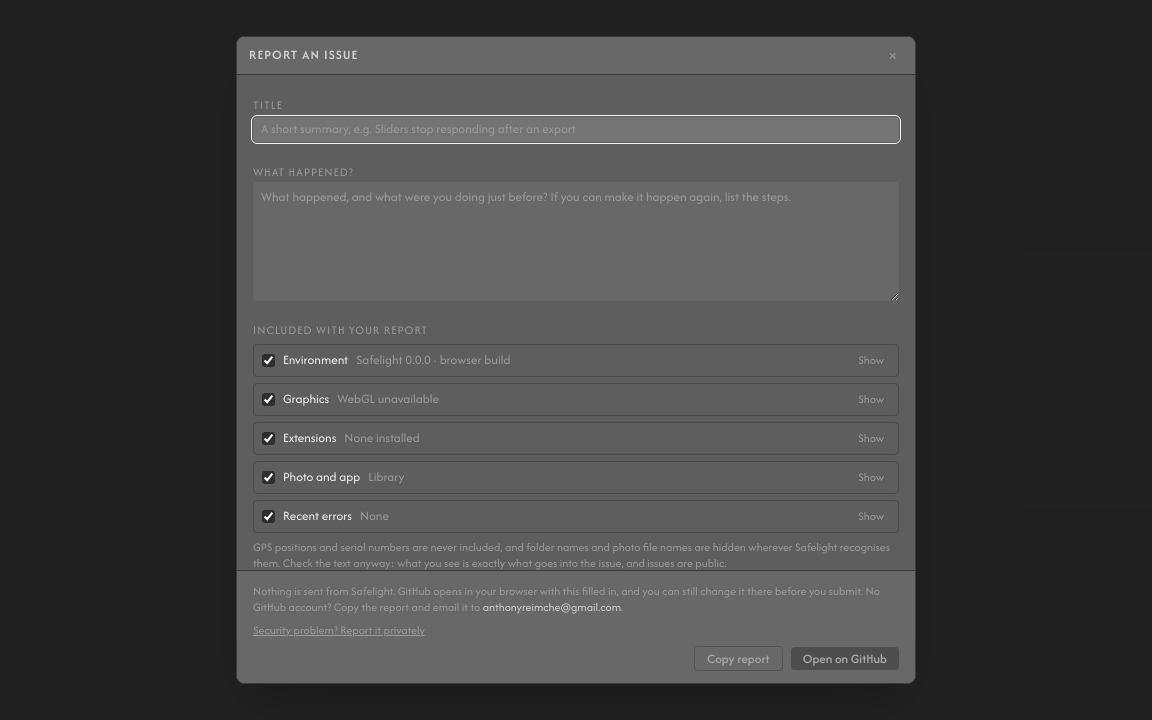
Test: ReportIssueDialog › copies the full report
Expected: the checkbox named "Include Environment" is shown, x1=262 y1=354 x2=275 y2=367
Type "Sliders freeze" into the field labelled "Title".
click(576, 129); type("Sliders freeze")  # box x1=253 y1=117 x2=899 y2=142
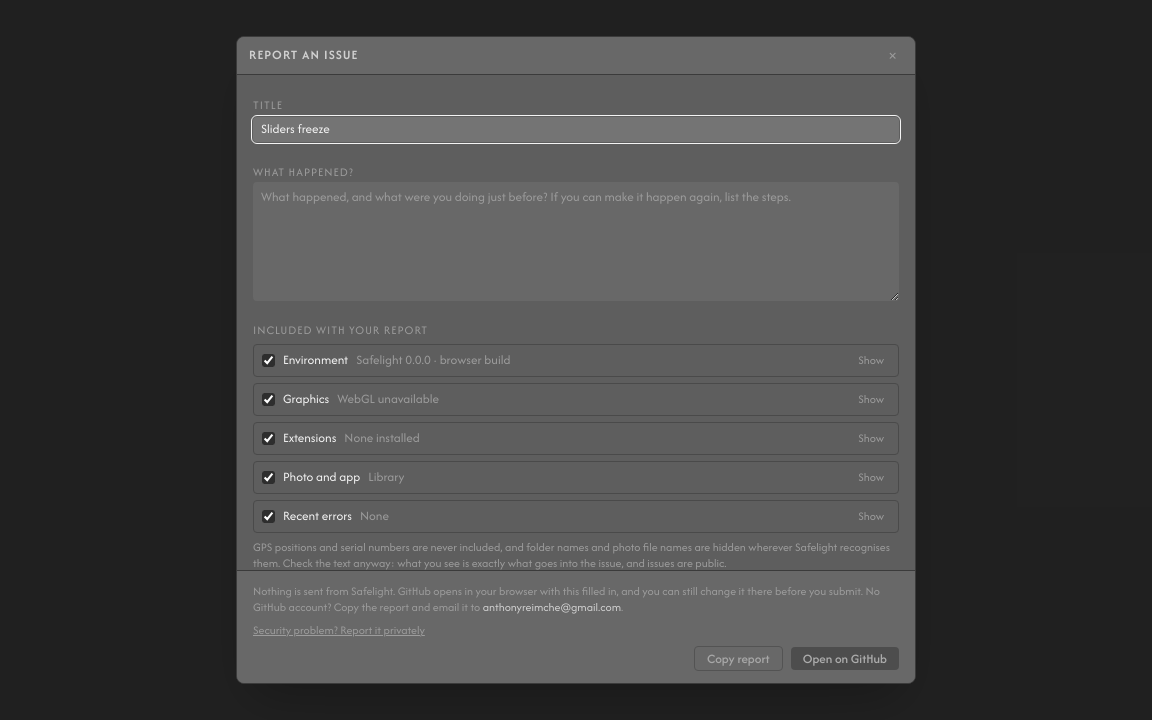
Type "They stop moving." into the text box labelled "What happened?".
click(576, 241); type("They stop moving.")  # box x1=253 y1=182 x2=899 y2=301
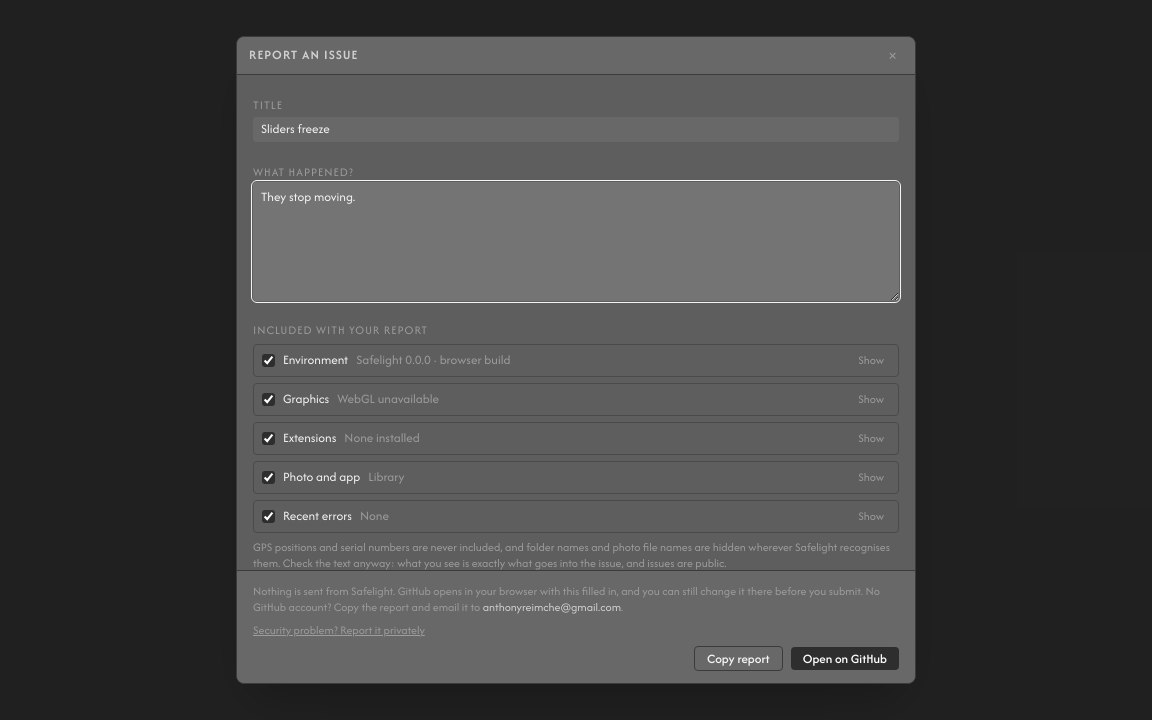
Click the button "Copy report".
click(738, 658)  # box x1=694 y1=646 x2=783 y2=671
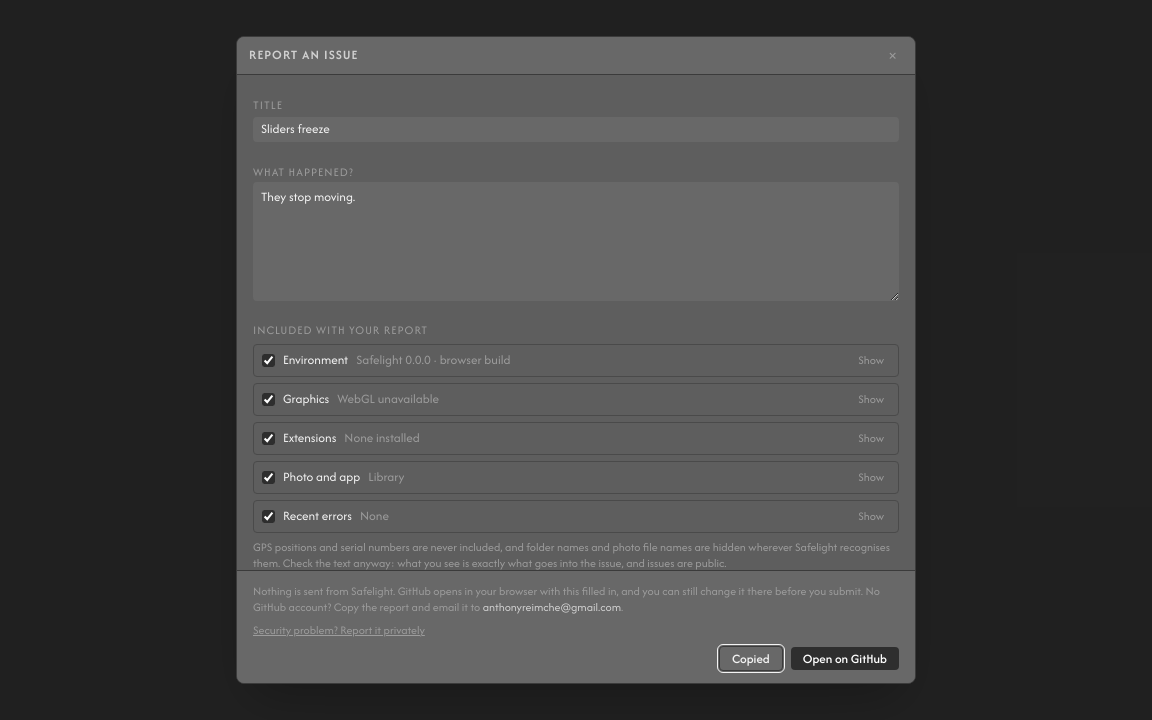
Expected: the dialog is shown, x1=236 y1=36 x2=916 y2=684
Expected: the button "Copied" is shown, x1=719 y1=646 x2=783 y2=671
